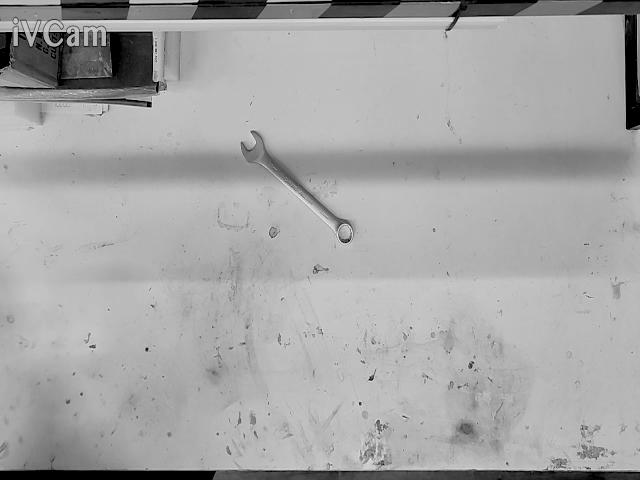Wrench: (240, 130, 354, 245)
